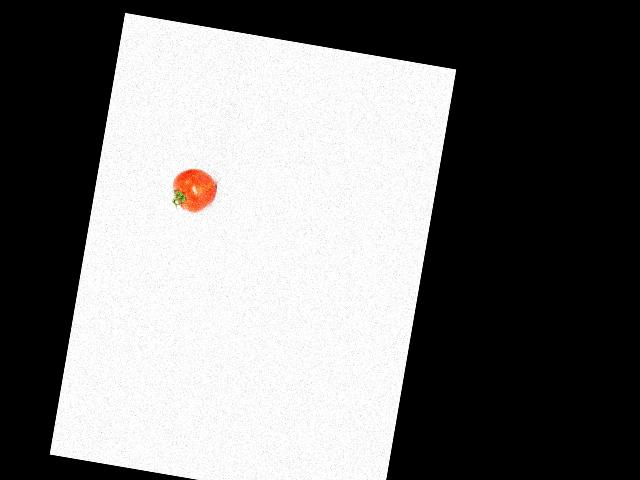tomato: (168, 165, 219, 215)
